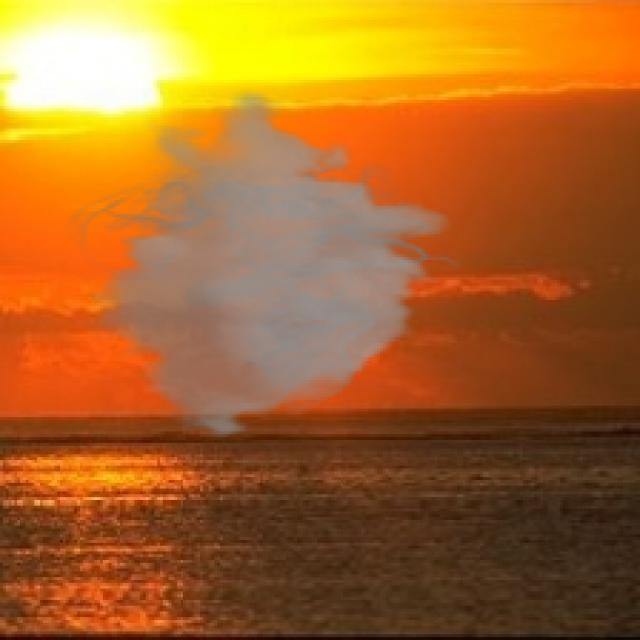Smoke: (60, 88, 466, 440)
